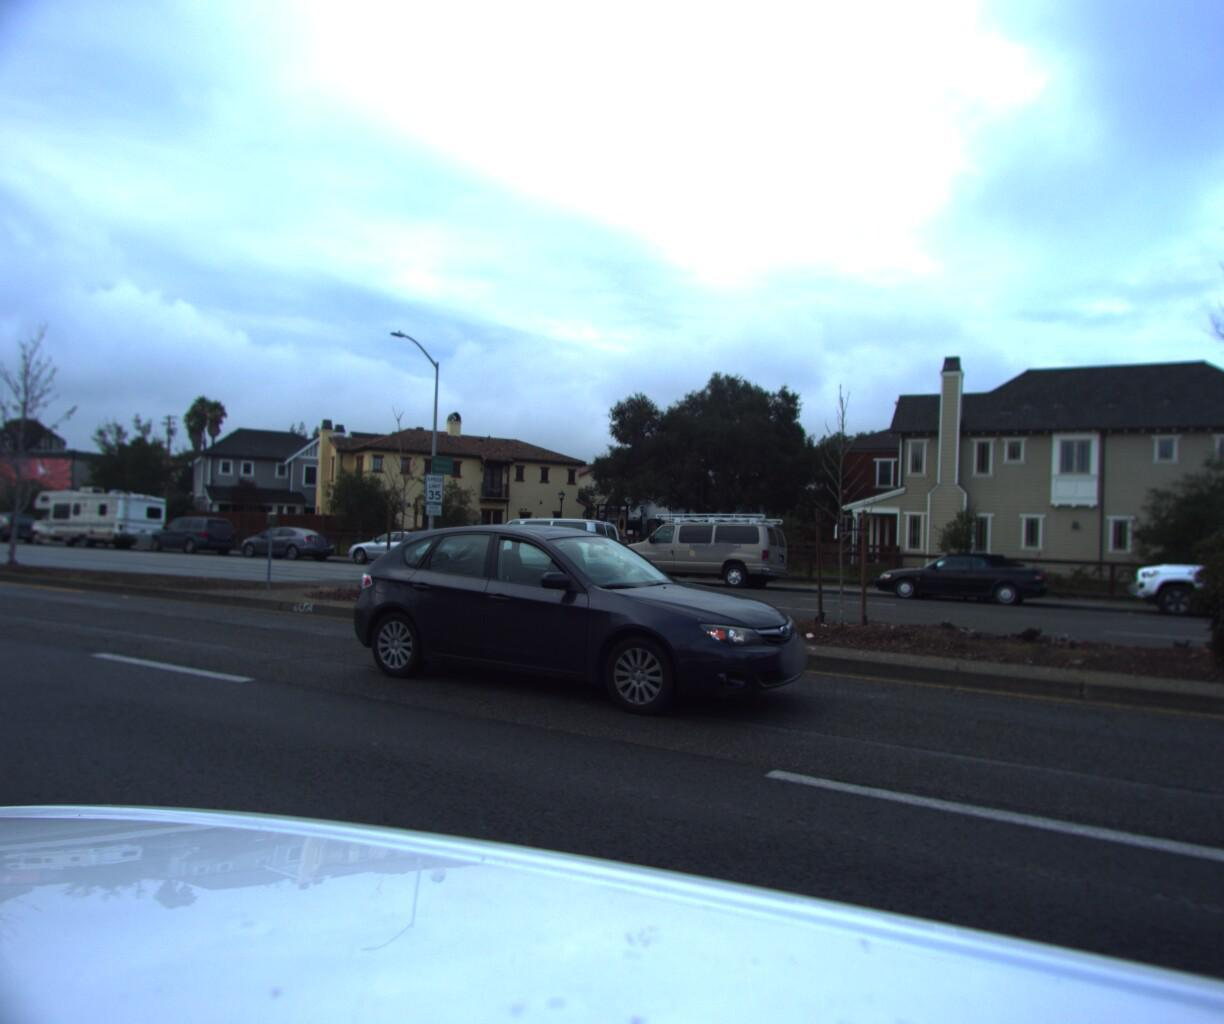car: (349, 524, 839, 741), (605, 510, 794, 592), (861, 548, 1048, 614), (462, 514, 625, 585), (1117, 538, 1224, 638), (334, 531, 464, 574), (136, 517, 241, 561), (227, 527, 339, 567), (0, 515, 43, 551)
other_vehicle: (20, 489, 172, 556)
